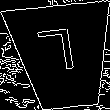L_S: (40, 30, 85, 83)
